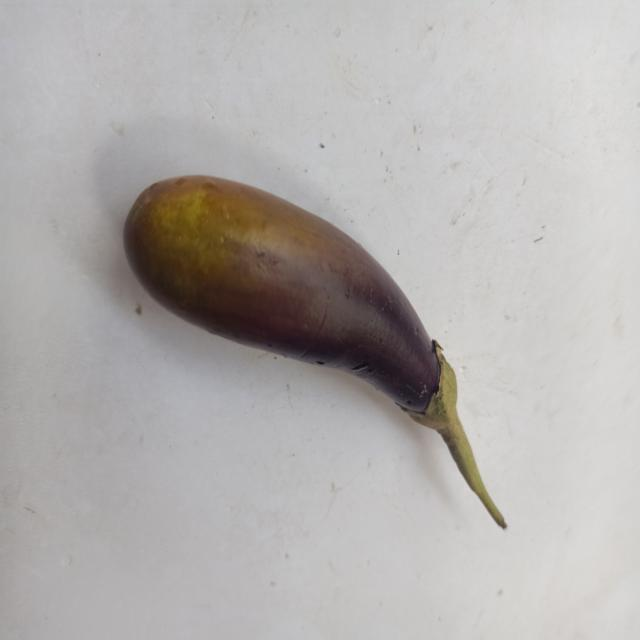Brinjal: (110, 144, 532, 544)
